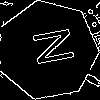N: (23, 25, 75, 69)
